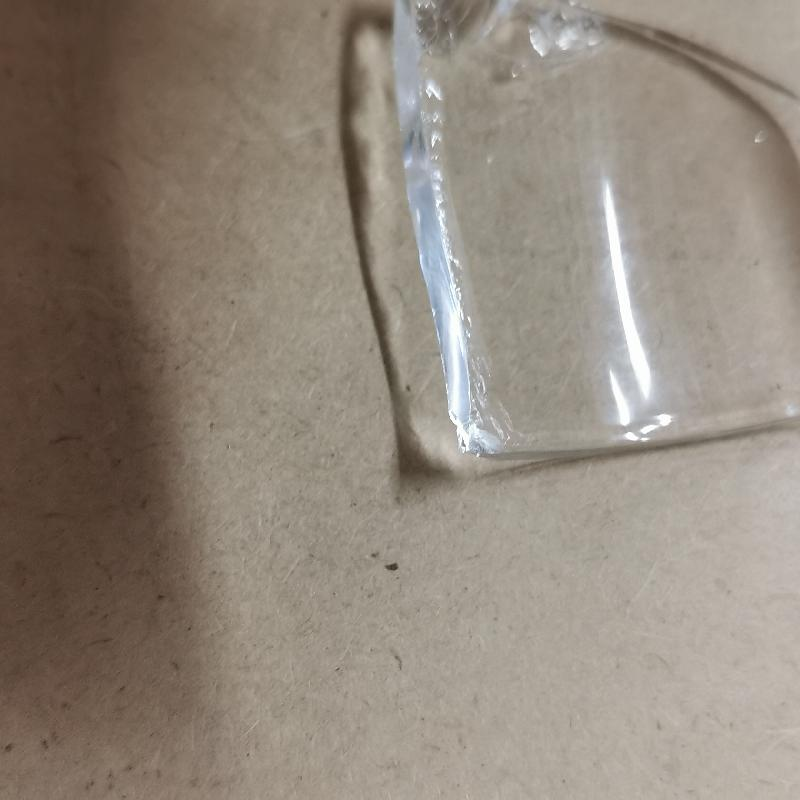glass: (385, 0, 800, 463)
